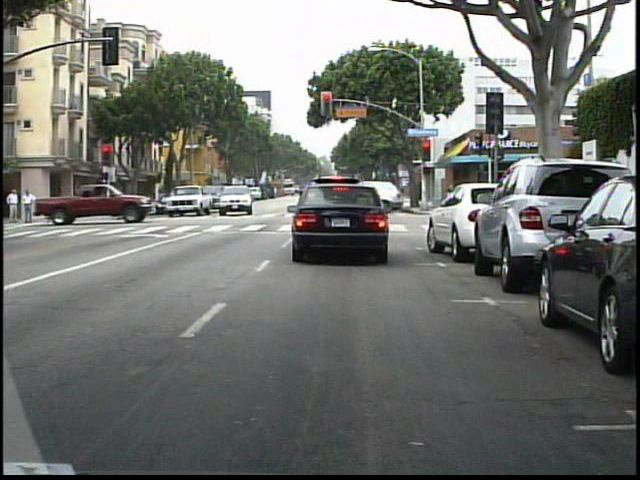person: (21, 187, 39, 226), (4, 187, 21, 223)
